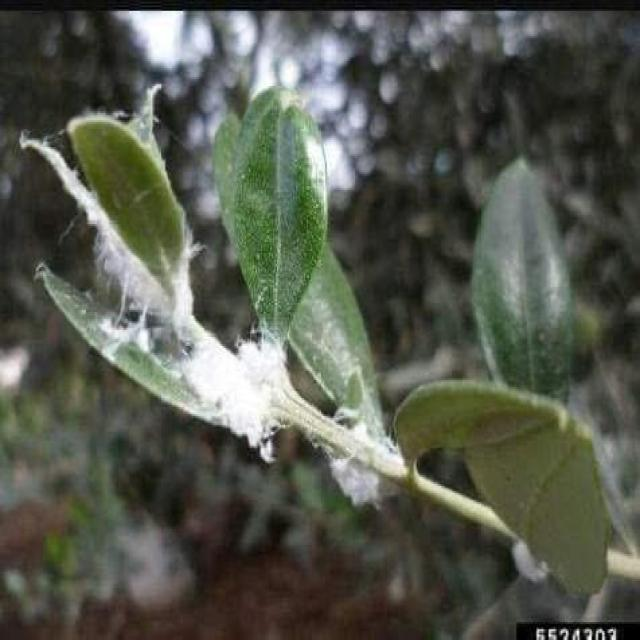Psyllid: (21, 86, 318, 459), (320, 368, 406, 503)
